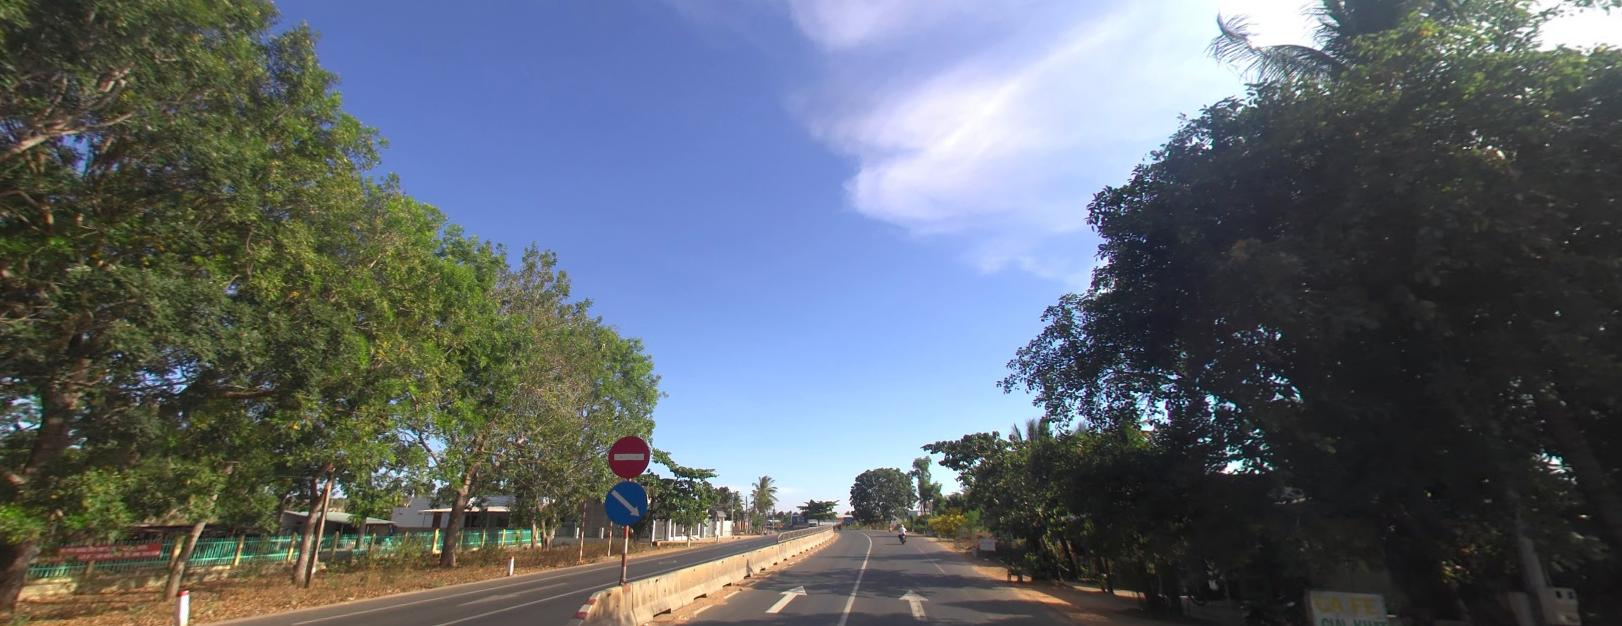Cam nguoc chieu: (606, 433, 651, 476)
Hieu lenh: (603, 478, 647, 524)
